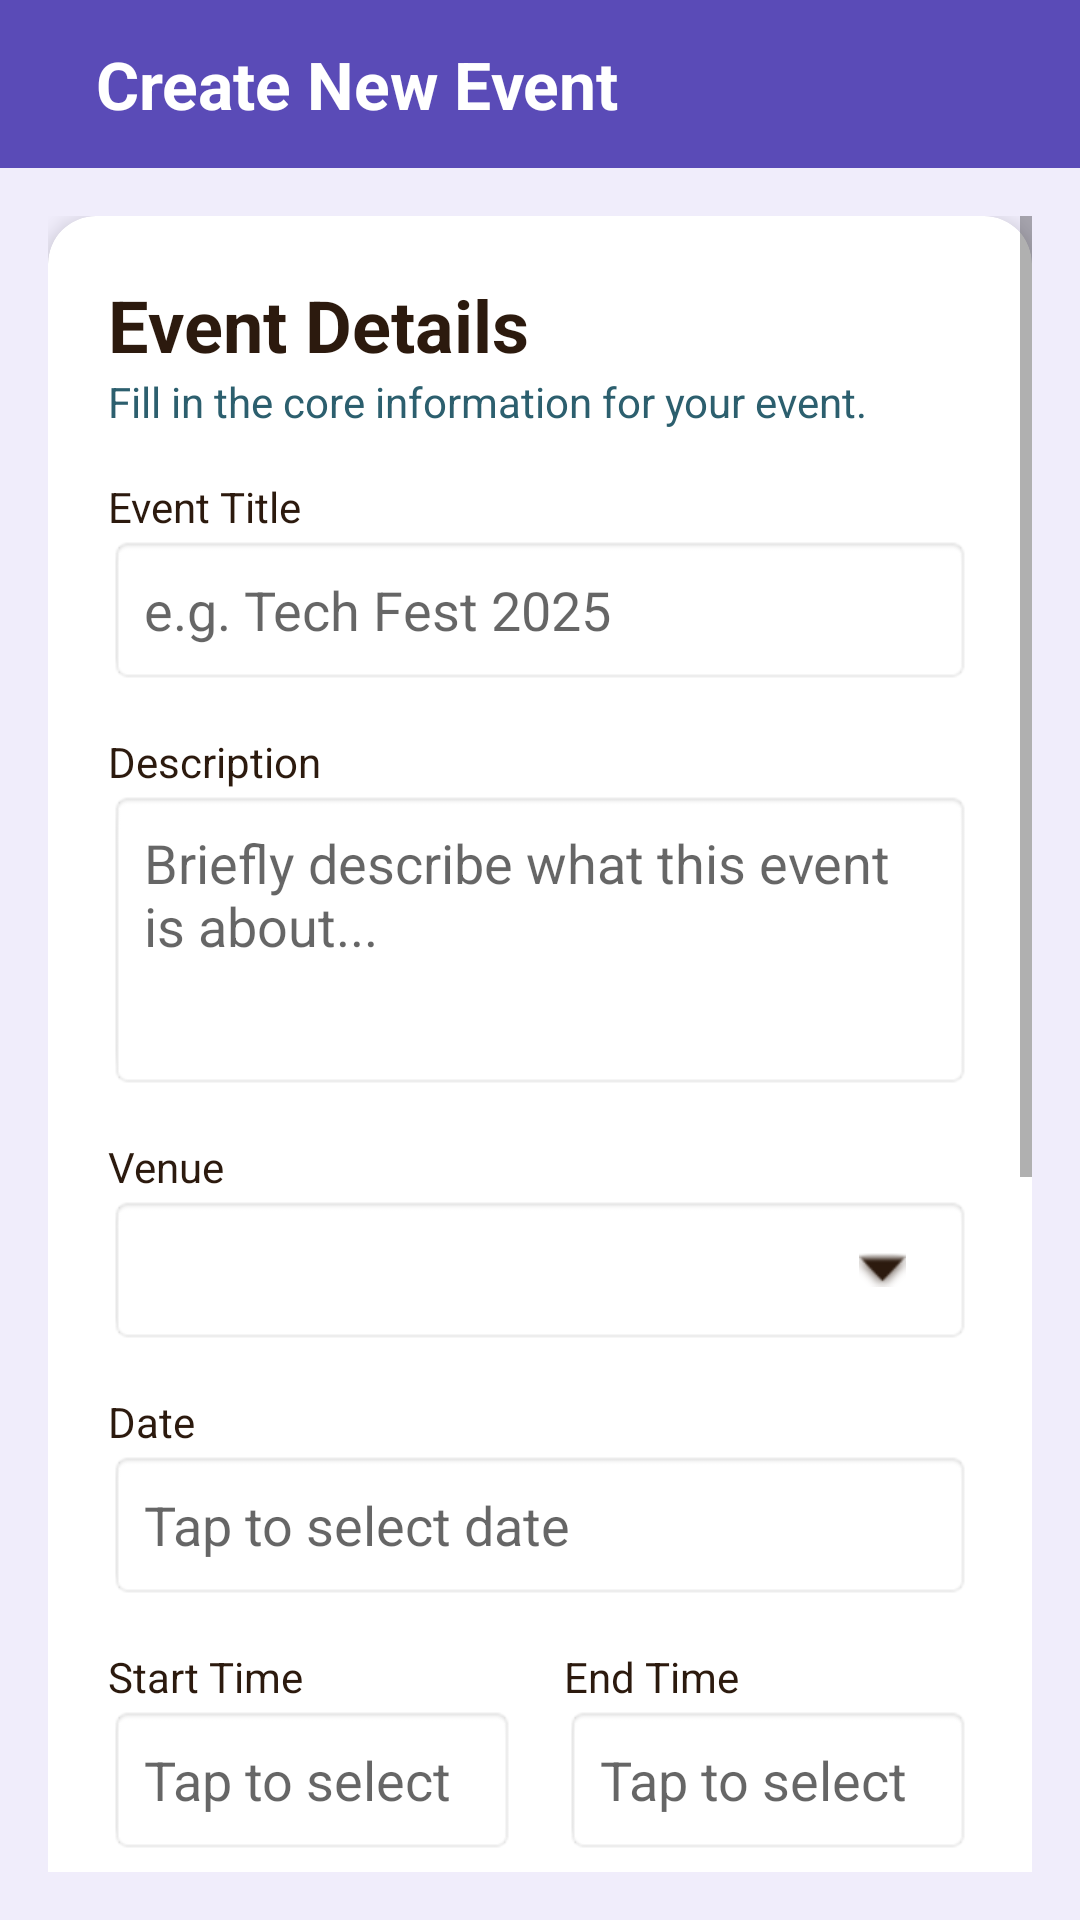

Where icons sit on this 1080x1920 app screen, as box(x1, y1, x2, y2):
arrow down float: box(859, 1254, 906, 1286)
